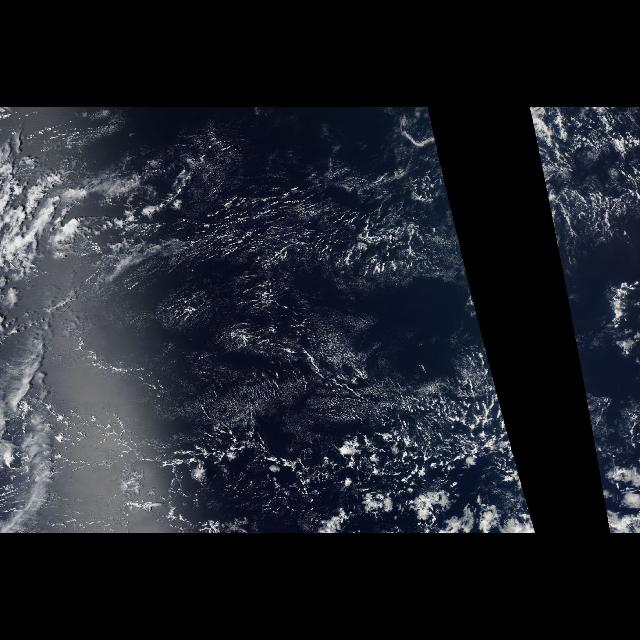Gravel: (94, 362, 536, 534), (529, 107, 639, 239), (578, 362, 636, 534)
